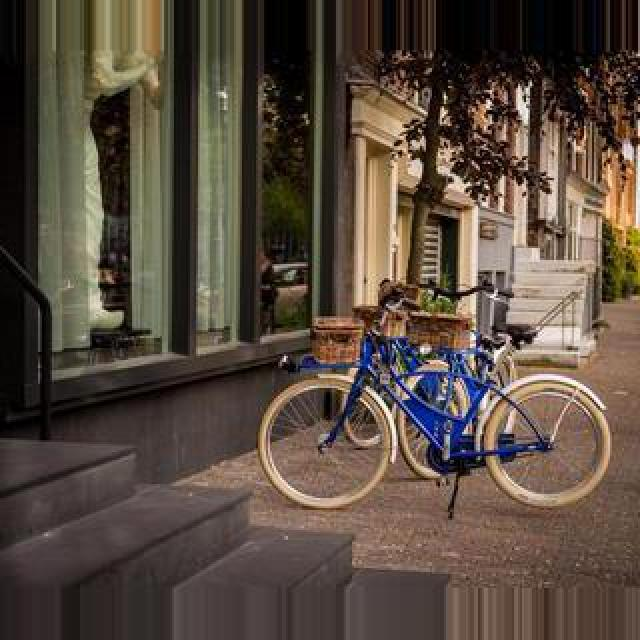Person: (260, 296, 608, 522)
